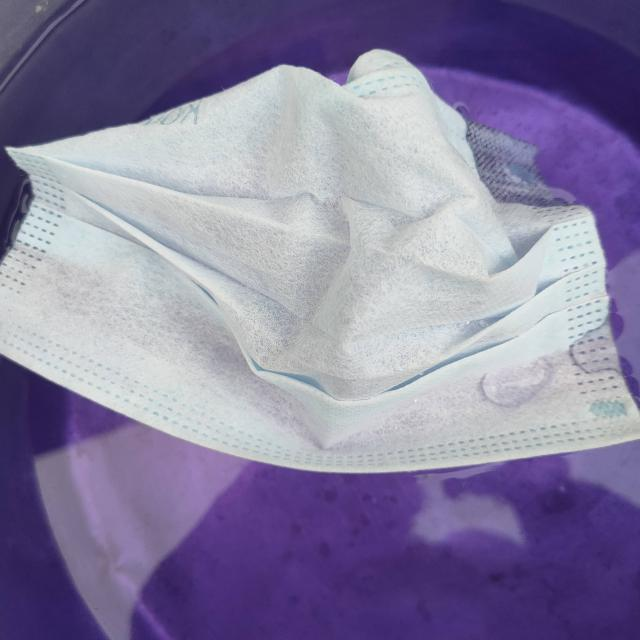litter: (13, 37, 640, 464)
